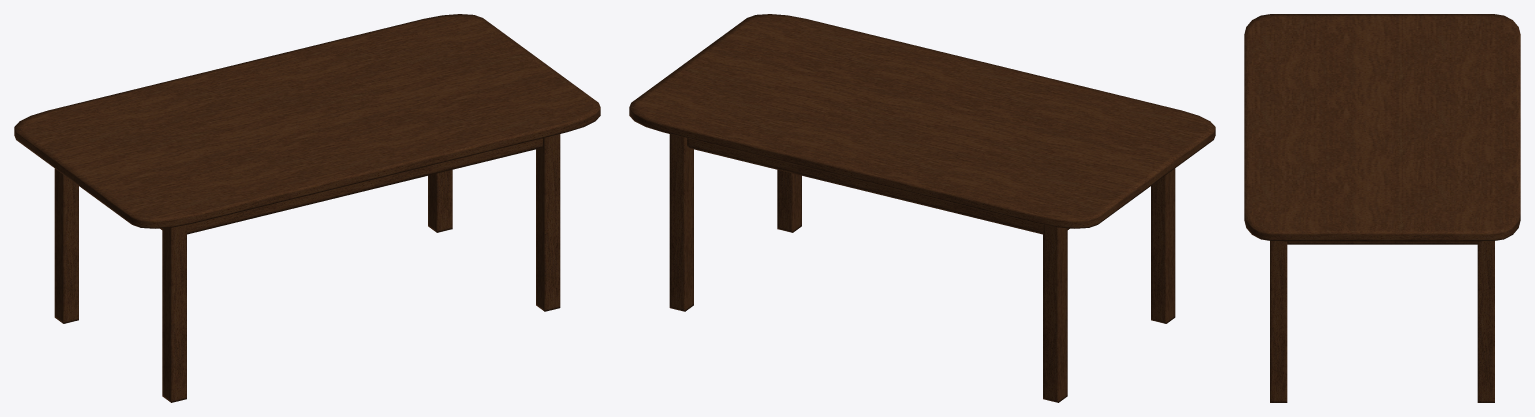
Rendered from dining.table.fbx.
The picture shows the model from 3 angles, left to right: view 1: azimuth 30°, elevation 25°; view 2: azimuth 150°, elevation 25°; view 3: azimuth 270°, elevation 25°; orthographic projection. The views are drawn at different scales.
Visible parts, largest first — view 1: Table.Main.001, DT.Leg.002, DT.Leg.004, DT.Leg.001, DT.Ext.001, DT.Leg.003; view 2: Table.Main.001, DT.Leg.001, DT.Leg.003, DT.Leg.002, DT.Ext.002, DT.Leg.004; view 3: Table.Main.001, DT.Leg.003, DT.Leg.004, DT.Ext.003.
Part boxes in pixels (box(x1,y1,x2,y2)): Table.Main.001: box(14, 14, 600, 228); DT.Leg.002: box(162, 225, 186, 402); DT.Leg.004: box(536, 134, 560, 311); DT.Leg.001: box(54, 168, 78, 323); DT.Ext.001: box(187, 138, 542, 234); DT.Leg.003: box(428, 170, 452, 232); Table.Main.001: box(629, 14, 1215, 228); DT.Leg.001: box(1043, 225, 1067, 402); DT.Leg.003: box(669, 134, 693, 311); DT.Leg.002: box(1151, 168, 1175, 323); DT.Ext.002: box(687, 138, 1042, 234); DT.Leg.004: box(777, 170, 801, 232); Table.Main.001: box(1244, 14, 1520, 240); DT.Leg.003: box(1477, 241, 1494, 402); DT.Leg.004: box(1270, 241, 1287, 402); DT.Ext.003: box(1287, 241, 1477, 244).
Bounding box in the file's own units: 150 × 60 × 80.
